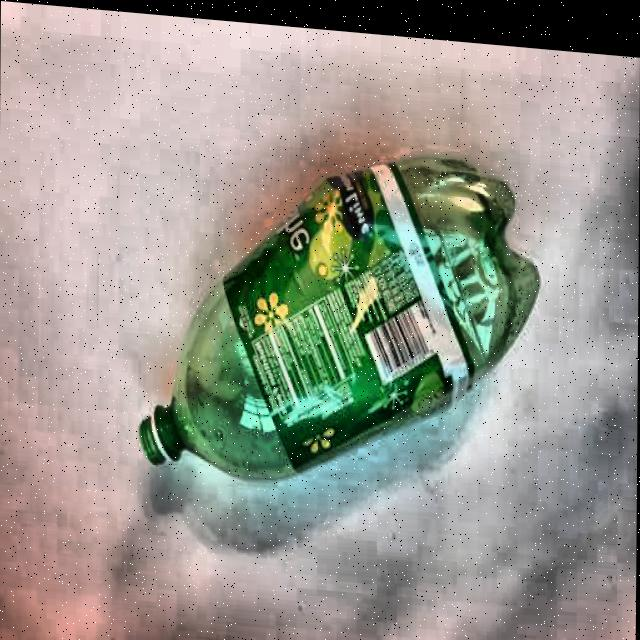plastic: (137, 124, 543, 505)
